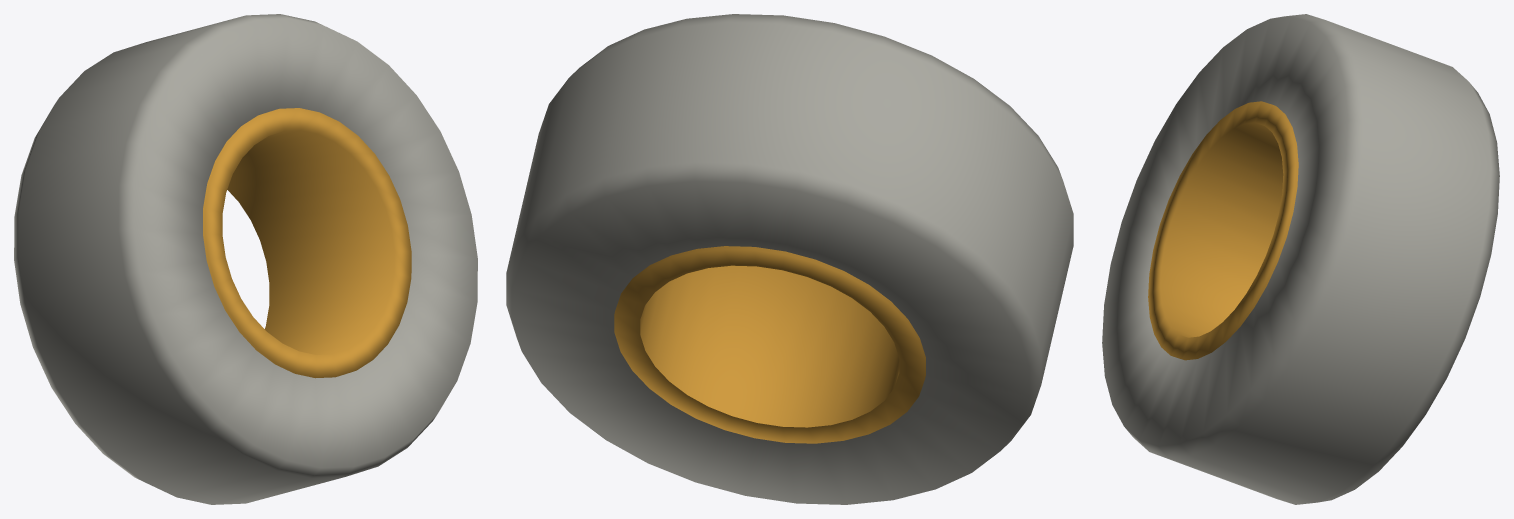
File: tape.glb
The picture shows the model from 3 angles, left to right: view 1: azimuth 30°, elevation 25°; view 2: azimuth 150°, elevation 25°; view 3: azimuth 270°, elevation 25°; orthographic projection. The views are drawn at different scales.
Parts seen in each view (by area): view 1: roll, core; view 2: roll, core; view 3: roll, core.
Part boxes in pixels (box(x1,y1,x2,y2)): roll: box(14, 14, 477, 504); core: box(203, 108, 411, 378); roll: box(506, 14, 1073, 504); core: box(614, 246, 925, 443); roll: box(1102, 14, 1499, 504); core: box(1148, 101, 1298, 360).
Bounding box in the file's own units: 0.1301 × 0.1285 × 0.1055.
